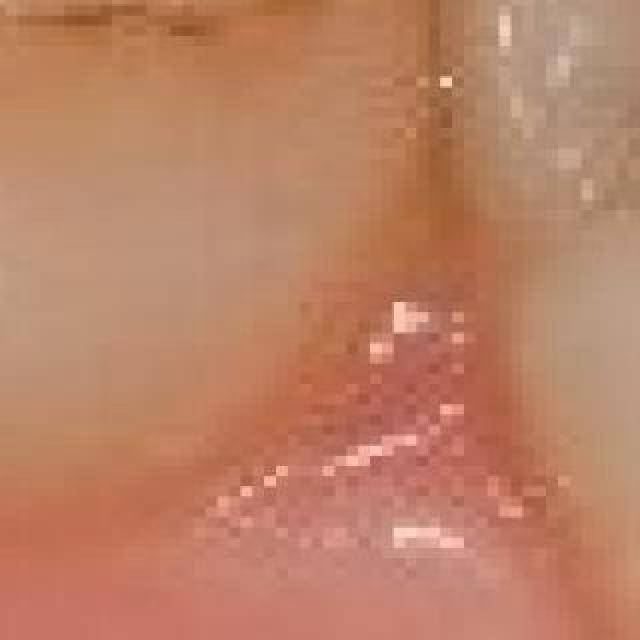cavities: (0, 0, 464, 526)
